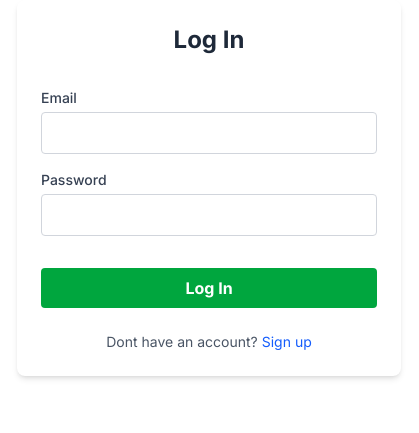
auth flow › shows an error for invalid login credentials
Type "wrong@hng.tech" into the field with test id "auth-login-email" at (209, 133), box [41,112,377,154]
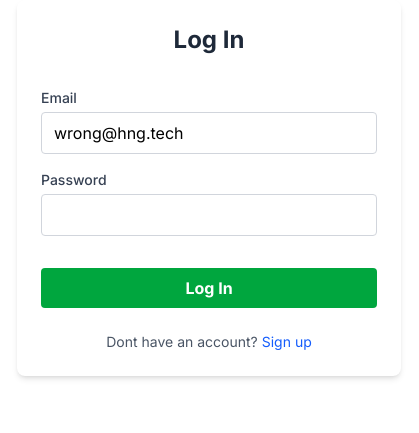
Type "wrongpass" into the password field with test id "auth-login-password" at (209, 215), box [41,194,377,236]
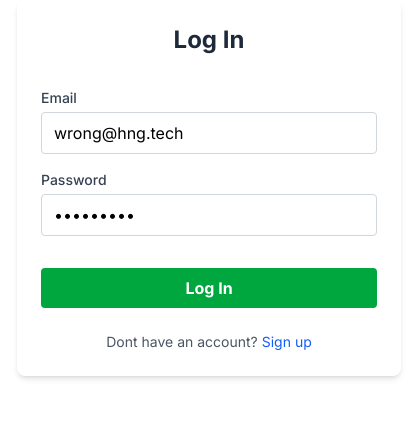
Click the button with test id "auth-login-submit" at (209, 288), box [41,268,377,308]
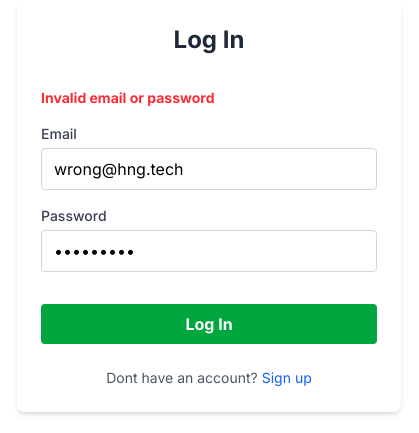
Result: the text "Invalid email or password" is shown at [41,89,214,106]
